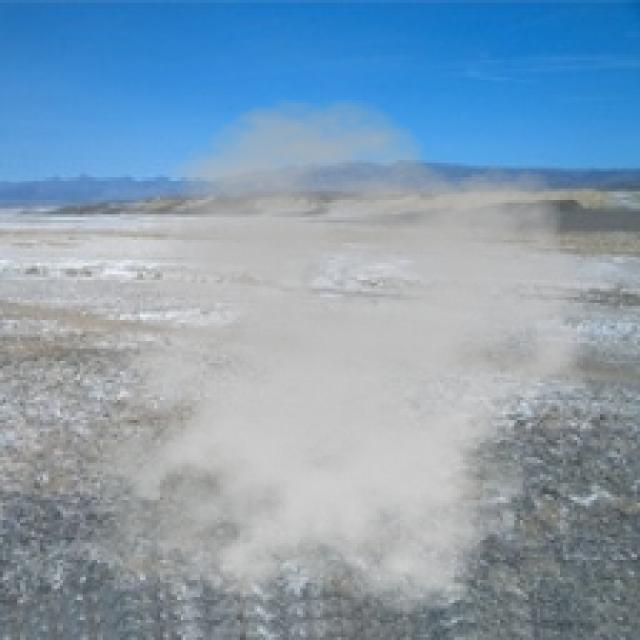smoke: (57, 97, 609, 632)
